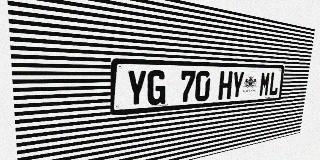0: (194, 71, 211, 102)
7: (178, 71, 196, 103)
G: (147, 70, 166, 106)
H: (218, 71, 233, 100)
L: (268, 72, 280, 96)
M: (259, 72, 271, 97)
Y: (126, 70, 147, 107), (231, 71, 245, 99)
